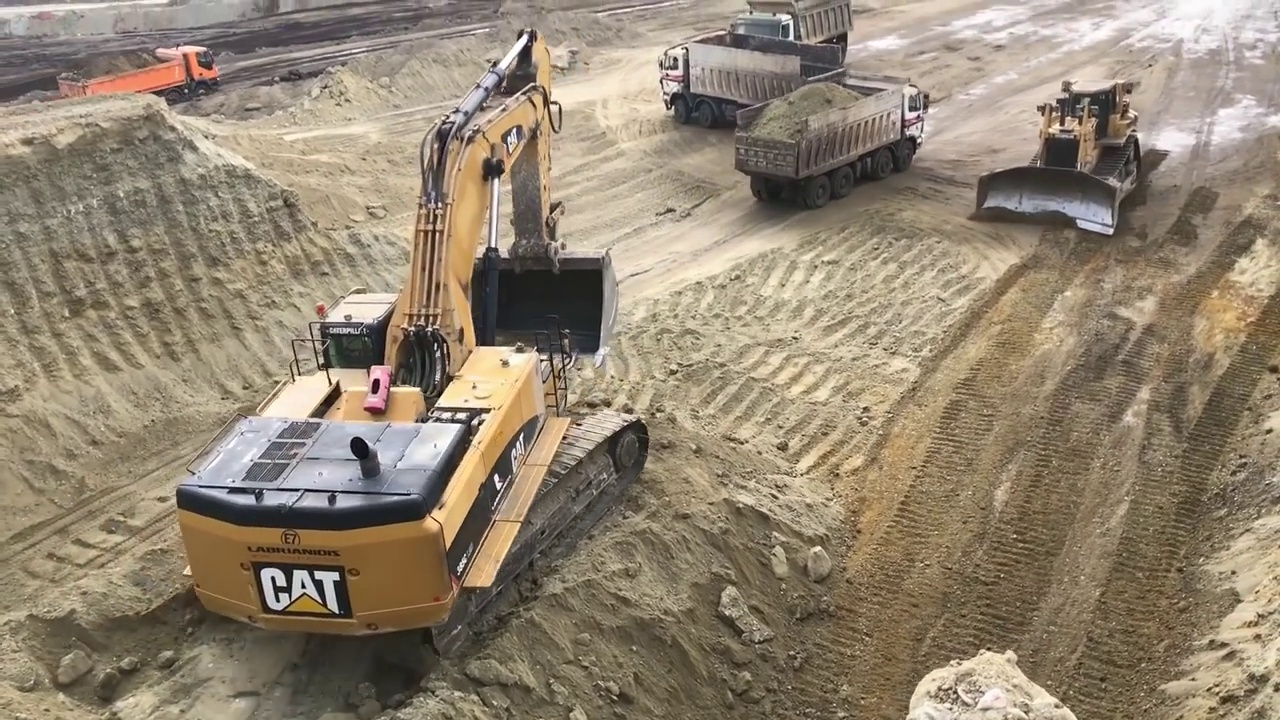bulldozer: (977, 69, 1141, 245)
excavator: (175, 25, 653, 679)
truck: (731, 69, 927, 207), (656, 32, 842, 130), (57, 44, 221, 100), (738, 5, 857, 70)
